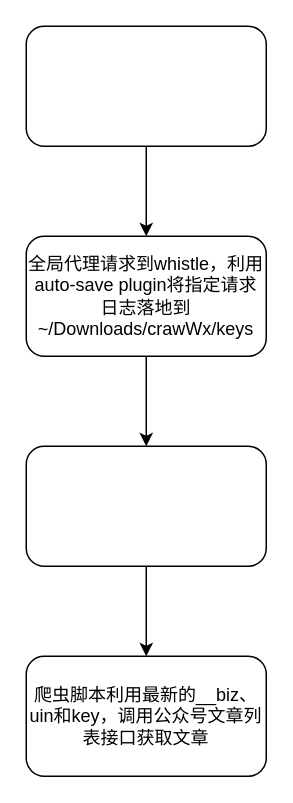
This 293x803 diagram has some shape labels left out. The box of each missing label's shape, as (x1, y1, x2, y2) in pixels:
AppleScript脚本定期点击微信已关注公众号的“查看历史消息”按钮: (25, 25, 266, 146)
脚本定期从最新的log中解析出__biz和key，落地: (25, 445, 266, 566)
